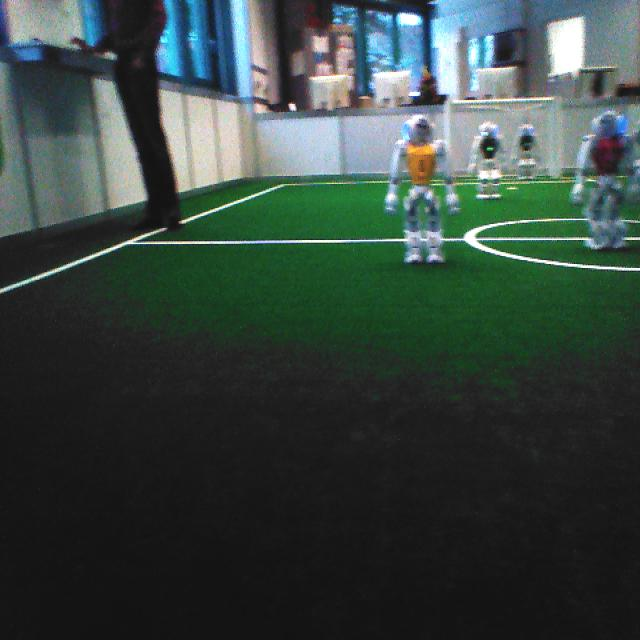goalpost: (549, 94, 563, 182), (441, 100, 452, 152)
